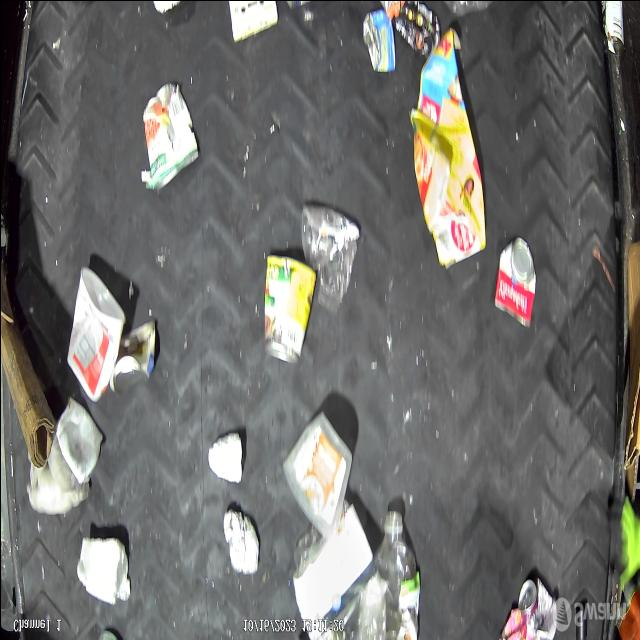can: (141, 78, 199, 197), (262, 250, 317, 365), (106, 314, 158, 398), (492, 235, 536, 328), (516, 574, 556, 640), (360, 5, 396, 76), (597, 0, 624, 55)
plastic_bottle: (368, 506, 422, 640)
